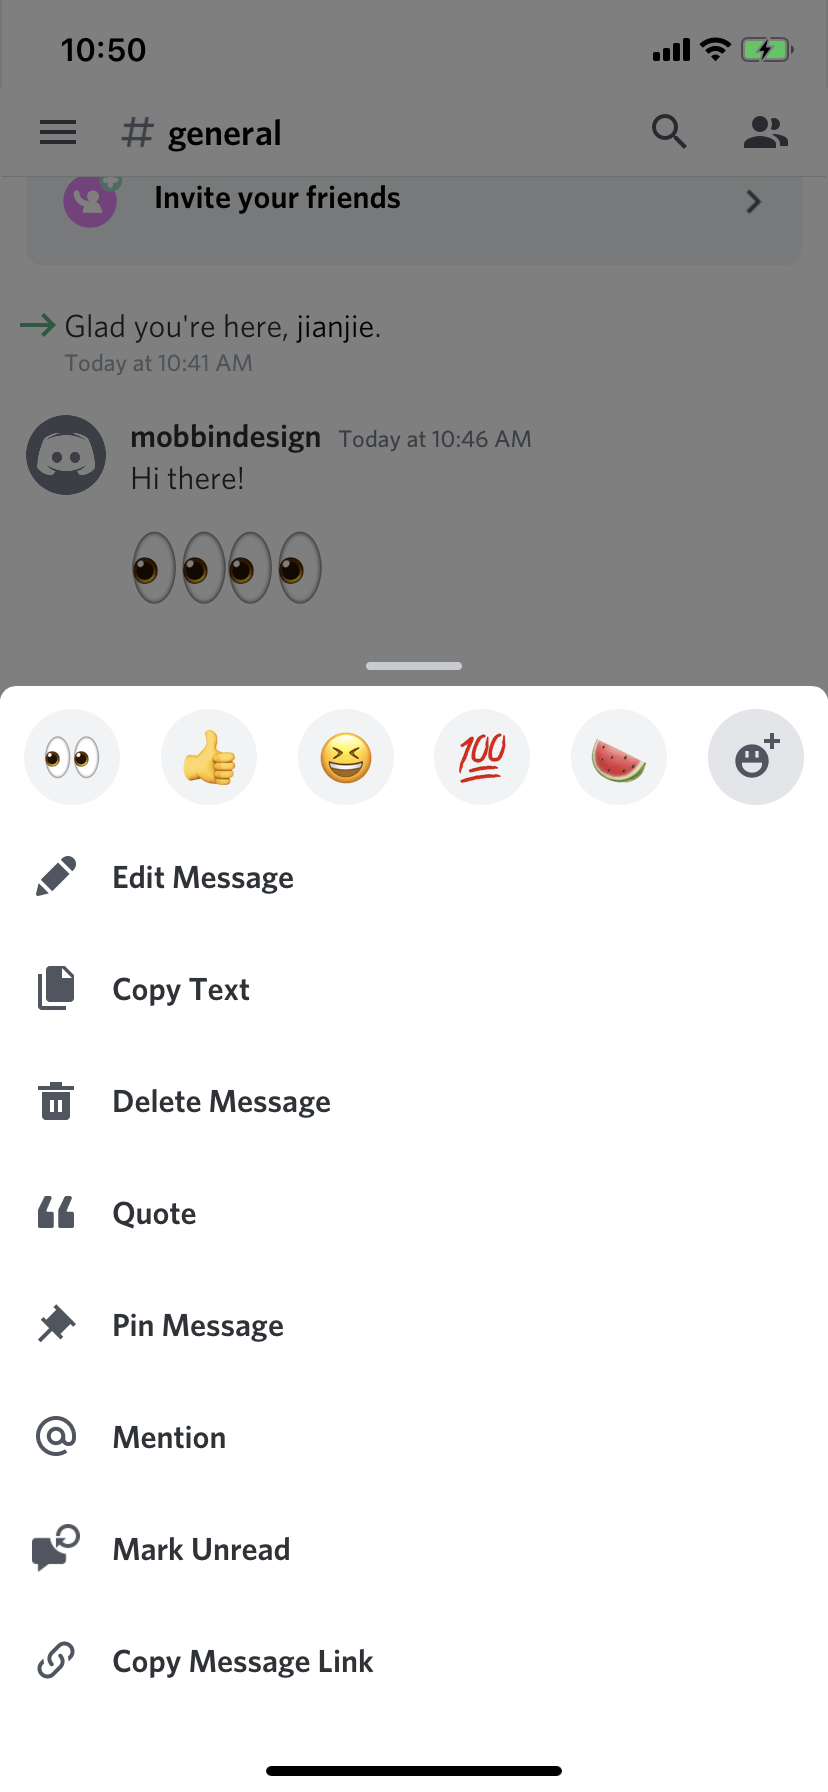Buttons: (632, 94, 706, 163), (21, 95, 91, 165), (737, 95, 795, 163)
